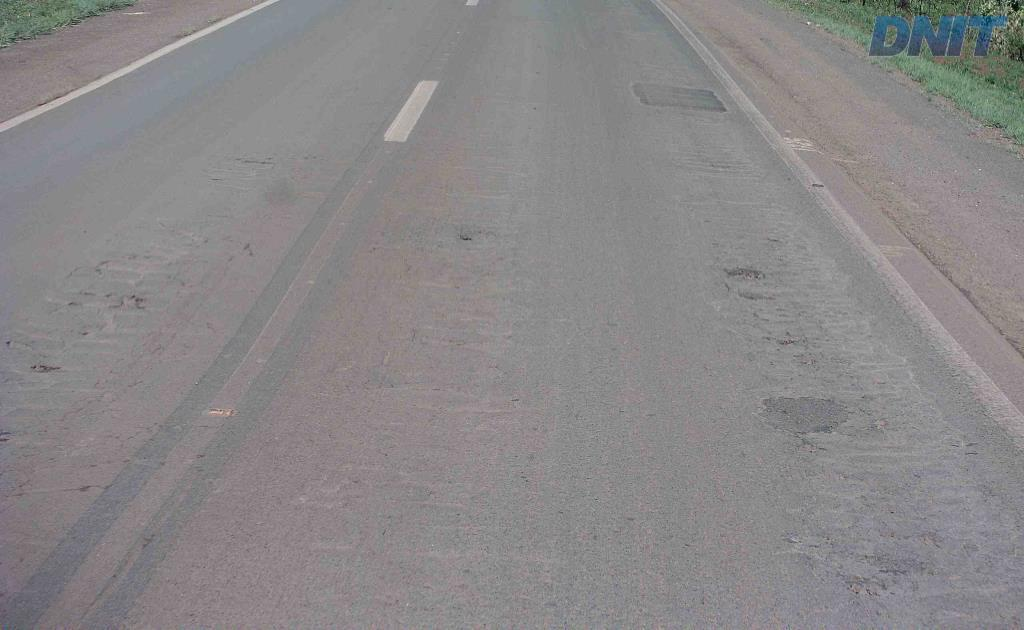pothole: (718, 255, 768, 282), (455, 227, 477, 251)
